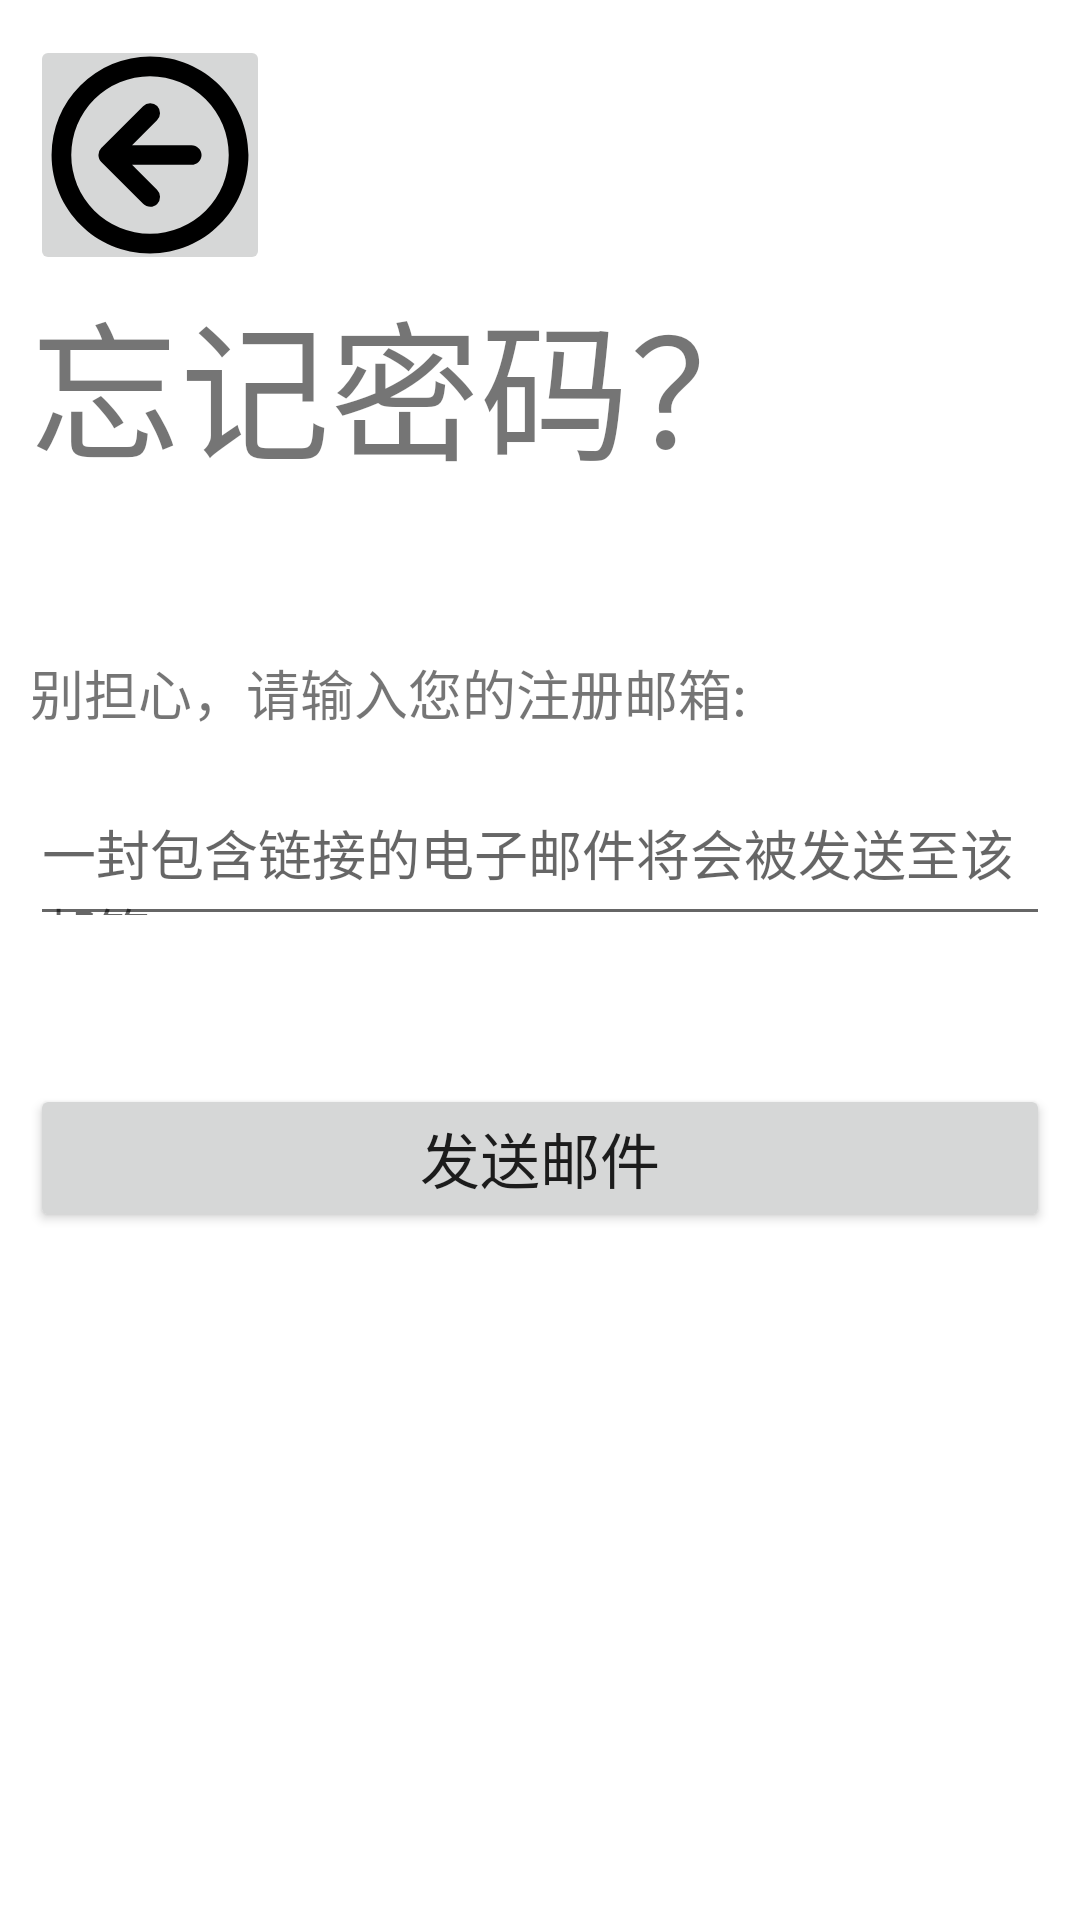

Point at icon controls on the screen. Image size 1080×1920, points as point (x, y).
back: point (150, 155)
